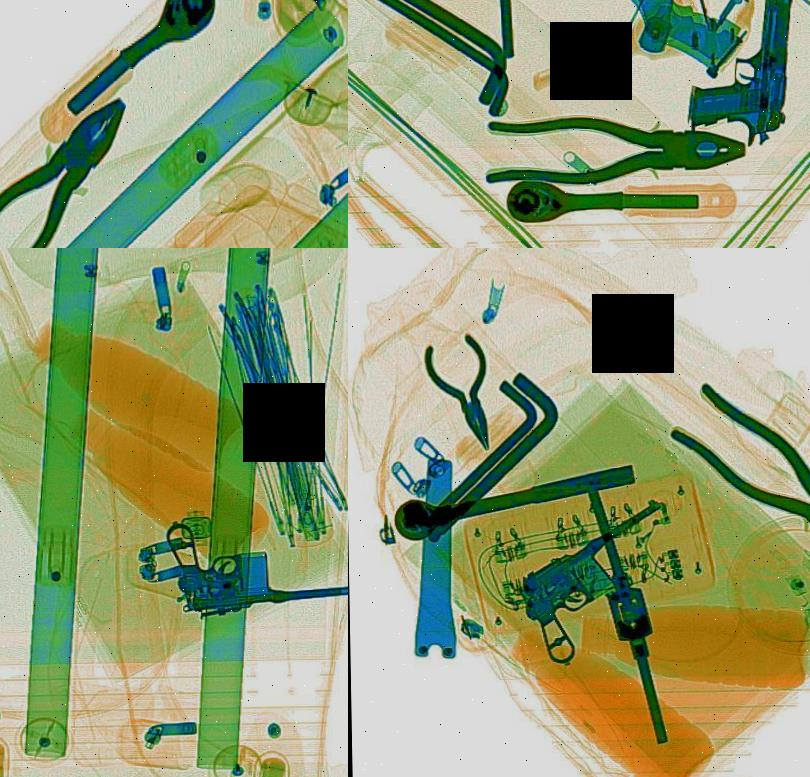Gun: (500, 491, 712, 668), (161, 501, 348, 620), (682, 0, 795, 145)
Pliers: (657, 372, 810, 594), (0, 76, 160, 248), (477, 111, 746, 188), (416, 326, 514, 457)
